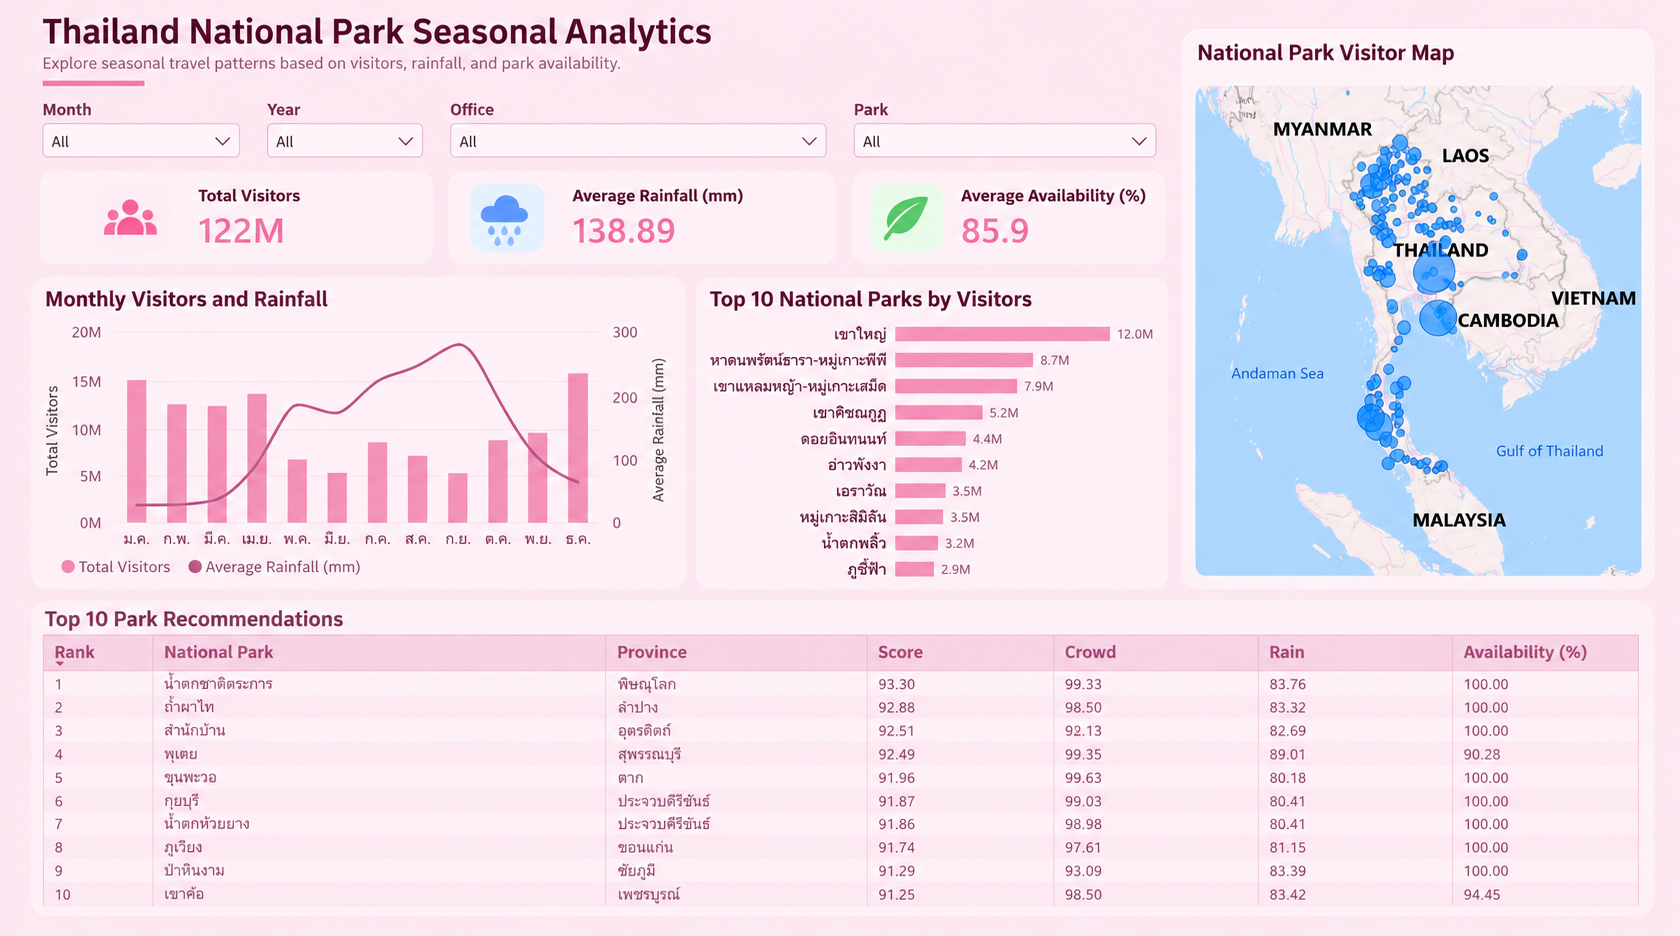

Layout of this report page (visuals, bound fields, positions):
{"tool":"powerbi","page":{"name":"Page 1","canvas":[1920,1080],"ordinal":0},"visuals":[{"type":"slicer","title":"Month","fields":{"Values":["dim_month.month_th","dim_month.month_th"]},"box":[55.7,117.1,225.7,89],"z":0},{"type":"slicer","title":"Year","fields":{"Values":["national_park_analytics dim_date.calendar_year_ce"]},"box":[310,117.1,170,89],"z":1000},{"type":"cardVisual","fields":{"Data":["national_park_analytics fact_park_monthly.Total Visitors"]},"box":[221.4,185.7,197.1,98.6],"z":2000},{"type":"cardVisual","fields":{"Data":["national_park_analytics fact_park_monthly.Average Rainfall"]},"box":[646.9,191.1,234.6,93.9],"z":3000},{"type":"cardVisual","fields":{"Data":["national_park_analytics fact_park_monthly.Average Availability (%)"]},"box":[1110,191.4,255.7,84.3],"z":4000},{"type":"clusteredBarChart","title":"Top 10 National Parks by Visitors","fields":{"Category":["national_park_analytics dim_park.park_name"],"Y":["national_park_analytics fact_park_monthly.Total Visitors"]},"box":[767.5,270,610,435],"z":5000},{"type":"lineClusteredColumnComboChart","title":"Monthly Visitors and Rainfall","fields":{"Category":["dim_month.month_th"],"Y":["national_park_analytics fact_park_monthly.Total Visitors"],"Y2":["national_park_analytics fact_park_monthly.Average Rainfall"]},"box":[57.5,275,710,385],"z":6000},{"type":"tableEx","title":"Top 10 Park Recommendations","fields":{"Values":["national_park_analytics vw_park_recommendation.Recommendation Rank","national_park_analytics dim_park.park_name","national_park_analytics dim_park.province","national_park_analytics vw_park_recommendation.Recommendation Score","national_park_analytics vw_park_recommendation.Rain Score","national_park_analytics vw_park_recommendation.Rain Score1","national_park_analytics vw_park_recommendation.Availability Score"]},"box":[50,637.5,1870,442.5],"z":7000},{"type":"map","title":"National Park Visitor Map","fields":{"Size":["national_park_analytics fact_park_monthly.Total Visitors"],"X":["national_park_analytics dim_park.longitude"],"Y":["national_park_analytics dim_park.latitude"]},"box":[1367.5,20,532.5,662.5],"z":8000},{"type":"slicer","title":"Office","fields":{"Values":["national_park_analytics dim_park.office"]},"box":[505,117.5,454,69],"z":9000},{"type":"slicer","title":"Park","fields":{"Values":["national_park_analytics dim_park.park_name"]},"box":[985.7,117.1,381.4,89],"z":10000},{"type":"textbox","box":[50,20,910,70],"z":11000},{"type":"image","box":[104,190,117.1,110],"z":12000},{"type":"image","box":[524,192,124.3,110],"z":13000},{"type":"image","box":[1010,186,123.6,110],"z":14000},{"type":"shape","box":[55,72.5,117.5,56.2],"z":15000}]}

Visuals, with their boxes in screenshot pixels (x1, y1, x2, y2), scaled from the page's 1920x1080 canvas onto the 1680x936 screenshot:
"Month" slicer: (x1=49, y1=101, x2=246, y2=179)
"Year" slicer: (x1=271, y1=101, x2=420, y2=179)
cardVisual - national_park_analytics fact_park_monthly.Total Visitors: (x1=194, y1=161, x2=366, y2=246)
cardVisual - national_park_analytics fact_park_monthly.Average Rainfall: (x1=566, y1=166, x2=771, y2=247)
cardVisual - national_park_analytics fact_park_monthly.Average Availability (%): (x1=971, y1=166, x2=1195, y2=239)
"Top 10 National Parks by Visitors" clusteredBarChart: (x1=672, y1=234, x2=1205, y2=611)
"Monthly Visitors and Rainfall" lineClusteredColumnComboChart: (x1=50, y1=238, x2=672, y2=572)
"Top 10 Park Recommendations" tableEx: (x1=44, y1=552, x2=1679, y2=935)
"National Park Visitor Map" map: (x1=1197, y1=17, x2=1662, y2=592)
"Office" slicer: (x1=442, y1=102, x2=839, y2=162)
"Park" slicer: (x1=862, y1=101, x2=1196, y2=179)
textbox: (x1=44, y1=17, x2=840, y2=78)
image: (x1=91, y1=165, x2=193, y2=260)
image: (x1=458, y1=166, x2=567, y2=262)
image: (x1=884, y1=161, x2=992, y2=257)
shape: (x1=48, y1=63, x2=151, y2=112)
